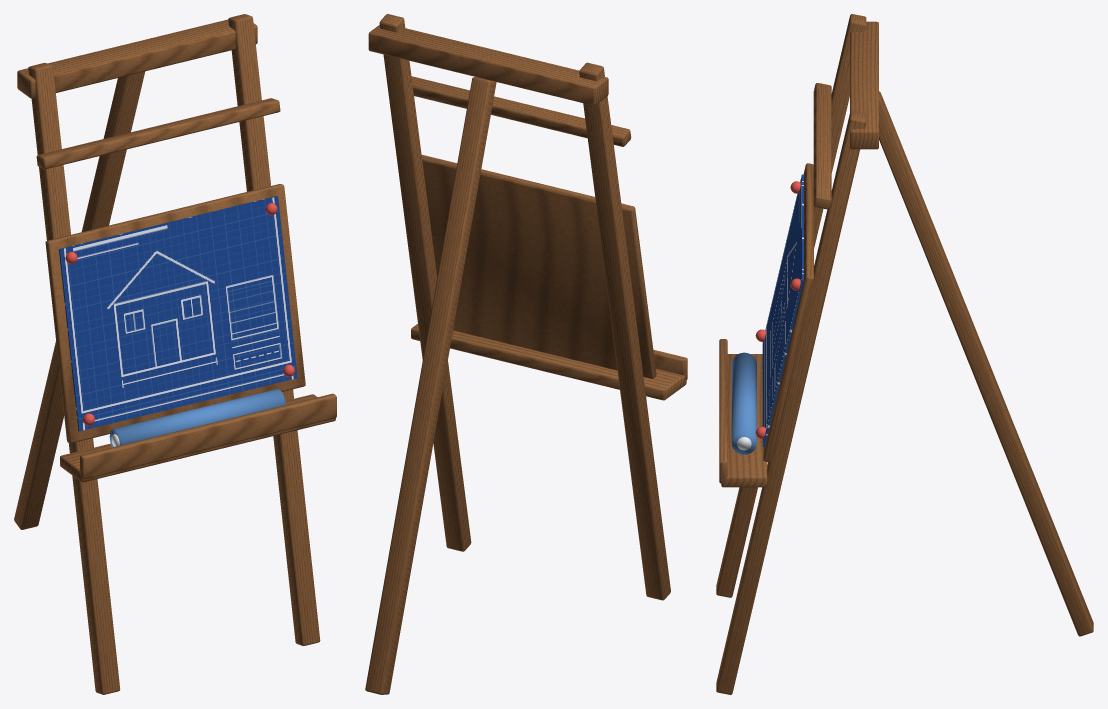
Rendered from ShedBlueprint.glb.
3 views of the same model, side by side, from view 1: azimuth 30°, elevation 25°; view 2: azimuth 150°, elevation 25°; view 3: azimuth 270°, elevation 25° (orthographic).
Parts seen in each view (by area): view 1: ShedBlueprint; view 2: ShedBlueprint; view 3: ShedBlueprint.
Part boxes in pixels (x1,y1,x2,y2): ShedBlueprint: (14, 14, 336, 694); ShedBlueprint: (365, 14, 687, 694); ShedBlueprint: (716, 14, 1093, 694).
Size of the model in its own units: 1.4 by 3.04 by 1.81.
Materials: 1 (1 with a texture image).
